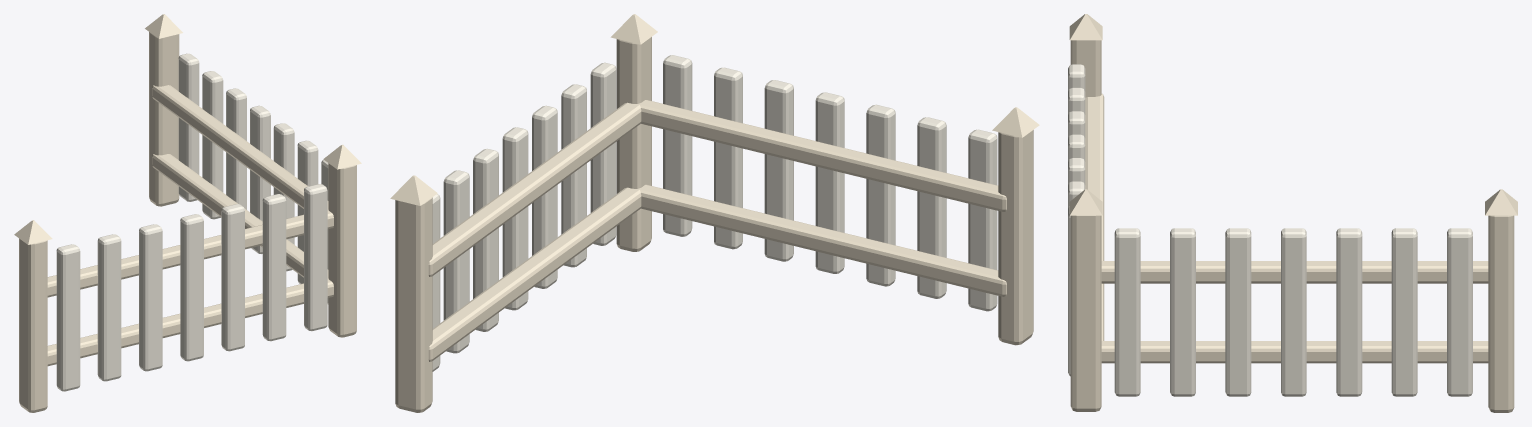
The model's file is fence_corner.glb.
3 renders of one model, left to right at view 1: azimuth 30°, elevation 25°; view 2: azimuth 150°, elevation 25°; view 3: azimuth 270°, elevation 25°, orthographic. The views are drawn at different scales.
Parts seen in each view (by area): view 1: fence_corner__Post, fence_corner__Post.001, fence_corner__Post.003, fence_corner__Rail.003, fence_corner__Picket, fence_corner__Picket.005, fence_corner__Picket.001, fence_corner__Picket.002, fence_corner__Picket.003, fence_corner__Picket.004, fence_corner__Picket.006, fence_corner__Rail (+12 smaller); view 2: fence_corner__Rail, fence_corner__Rail.001, fence_corner__Post.003, fence_corner__Post, fence_corner__Rail.003, fence_corner__Rail.002, fence_corner__Post.001, fence_corner__Picket.001, fence_corner__Picket.002, fence_corner__Picket.006, fence_corner__Picket, fence_corner__Picket.004 (+12 smaller); view 3: fence_corner__Post.001, fence_corner__Post.003, fence_corner__Rail.003, fence_corner__Rail.002, fence_corner__Picket.007, fence_corner__Picket.011, fence_corner__Picket.012, fence_corner__Picket.009, fence_corner__Picket.008, fence_corner__Picket.010, fence_corner__Picket.013, fence_corner__Rail.001 (+10 smaller).
Boxes of the visible parts, x1,y1,x2,y2 form: fence_corner__Post: (19, 238, 47, 412); fence_corner__Post.001: (328, 163, 356, 337); fence_corner__Post.003: (149, 32, 179, 206); fence_corner__Rail.003: (152, 85, 328, 208); fence_corner__Picket: (56, 244, 80, 391); fence_corner__Picket.005: (262, 194, 286, 341); fence_corner__Picket.001: (97, 234, 121, 381); fence_corner__Picket.002: (139, 224, 162, 371); fence_corner__Picket.003: (180, 214, 203, 361); fence_corner__Picket.004: (221, 204, 244, 351); fence_corner__Picket.006: (304, 184, 327, 331); fence_corner__Rail: (47, 278, 333, 366); fence_corner__Rail: (638, 184, 1006, 296); fence_corner__Rail.001: (638, 100, 1006, 211); fence_corner__Post.003: (395, 197, 432, 412); fence_corner__Post: (998, 130, 1033, 345); fence_corner__Rail.003: (428, 102, 642, 276); fence_corner__Rail.002: (428, 187, 641, 361); fence_corner__Post.001: (616, 37, 651, 251); fence_corner__Picket.001: (917, 117, 946, 298); fence_corner__Picket.002: (866, 104, 895, 286); fence_corner__Picket.006: (663, 55, 692, 236); fence_corner__Picket: (968, 129, 997, 311); fence_corner__Picket.004: (764, 80, 793, 261); fence_corner__Post.001: (1070, 215, 1101, 411); fence_corner__Post.003: (1488, 215, 1514, 412); fence_corner__Rail.003: (1101, 261, 1488, 283); fence_corner__Rail.002: (1101, 341, 1488, 363); fence_corner__Picket.007: (1114, 228, 1140, 396); fence_corner__Picket.011: (1336, 228, 1362, 396); fence_corner__Picket.012: (1391, 228, 1417, 396); fence_corner__Picket.009: (1225, 228, 1251, 396); fence_corner__Picket.008: (1170, 228, 1195, 396); fence_corner__Picket.010: (1281, 228, 1306, 396); fence_corner__Picket.013: (1447, 228, 1472, 396); fence_corner__Rail.001: (1085, 93, 1104, 260).
Size of the model in its own units: 0.5201 by 0.279 by 0.5201.
